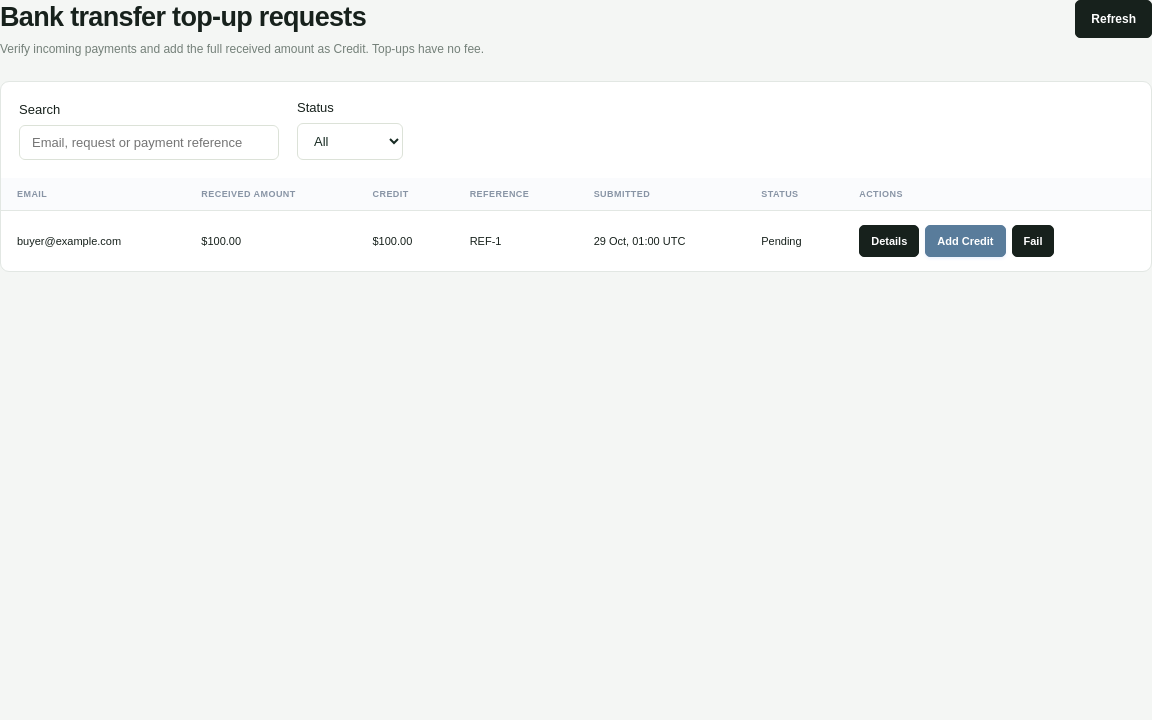
Test case: Console payment review › requires a Fail reason and sends it without adding Credit
The image size is (1152, 720).
Click the button "Fail": (1033, 241) [1012, 225, 1054, 257]
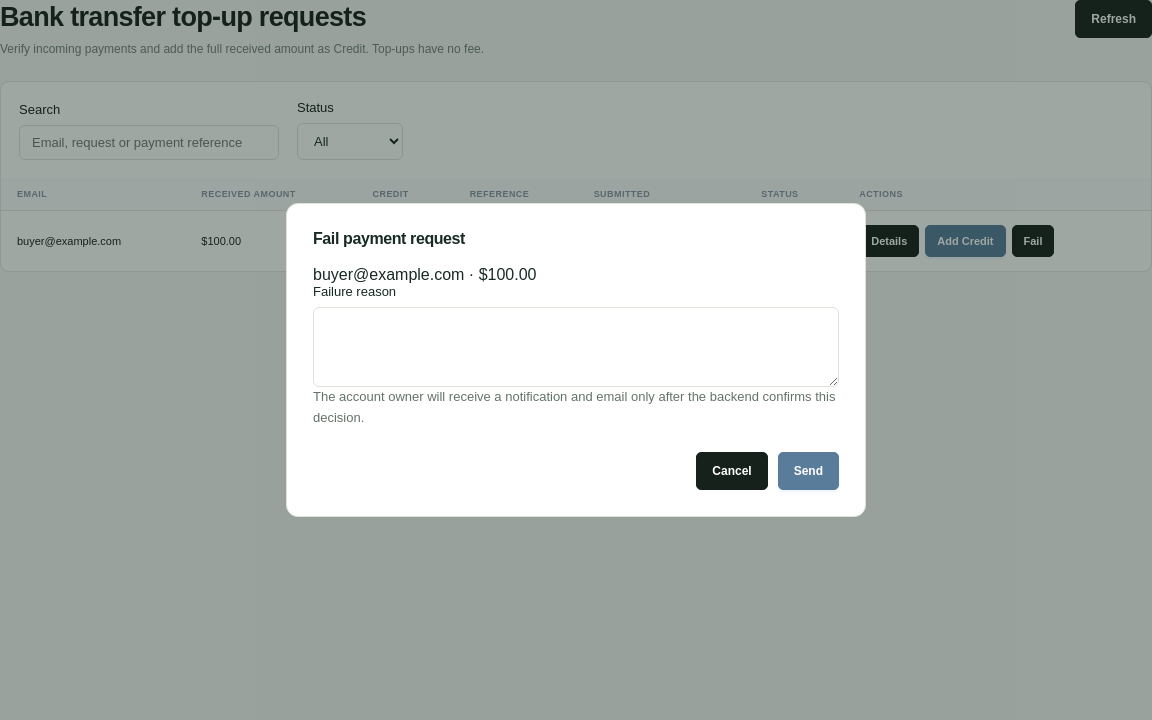
Click the button "Send": (808, 471) [778, 452, 839, 490]
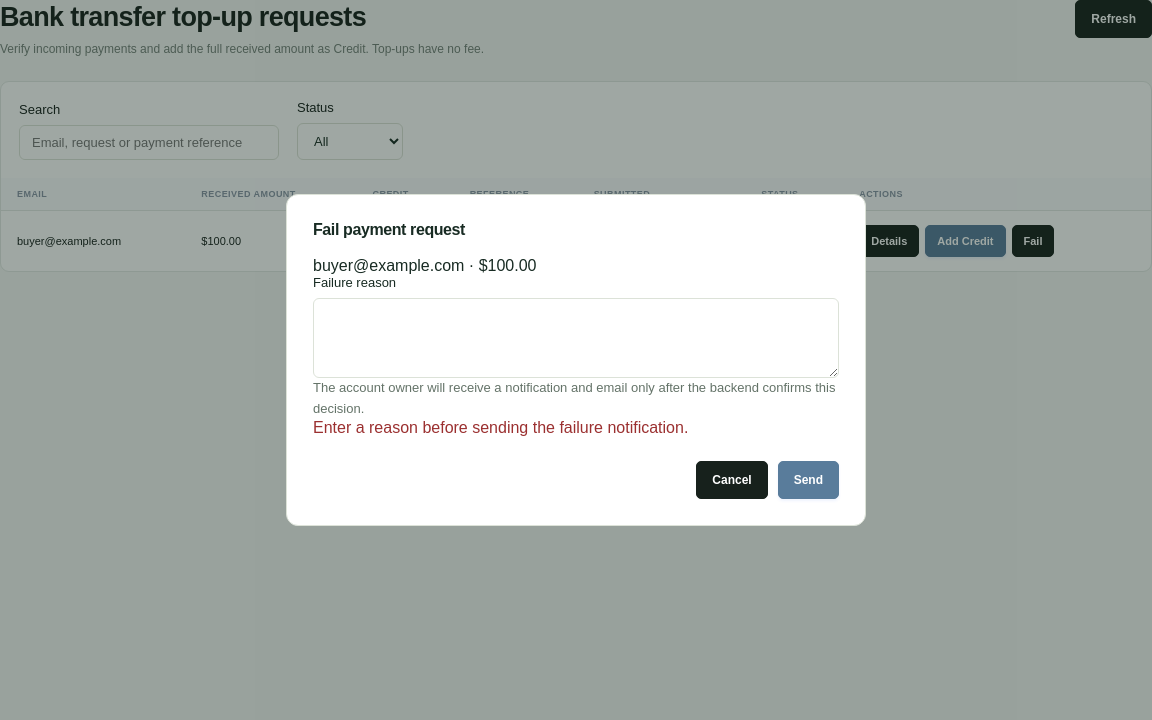
Now the message shows "Enter a reason", box [313, 419, 688, 436]
In the text box labelled "Failure reason": (576, 338) [313, 298, 839, 378], type "The bank reference does not match."
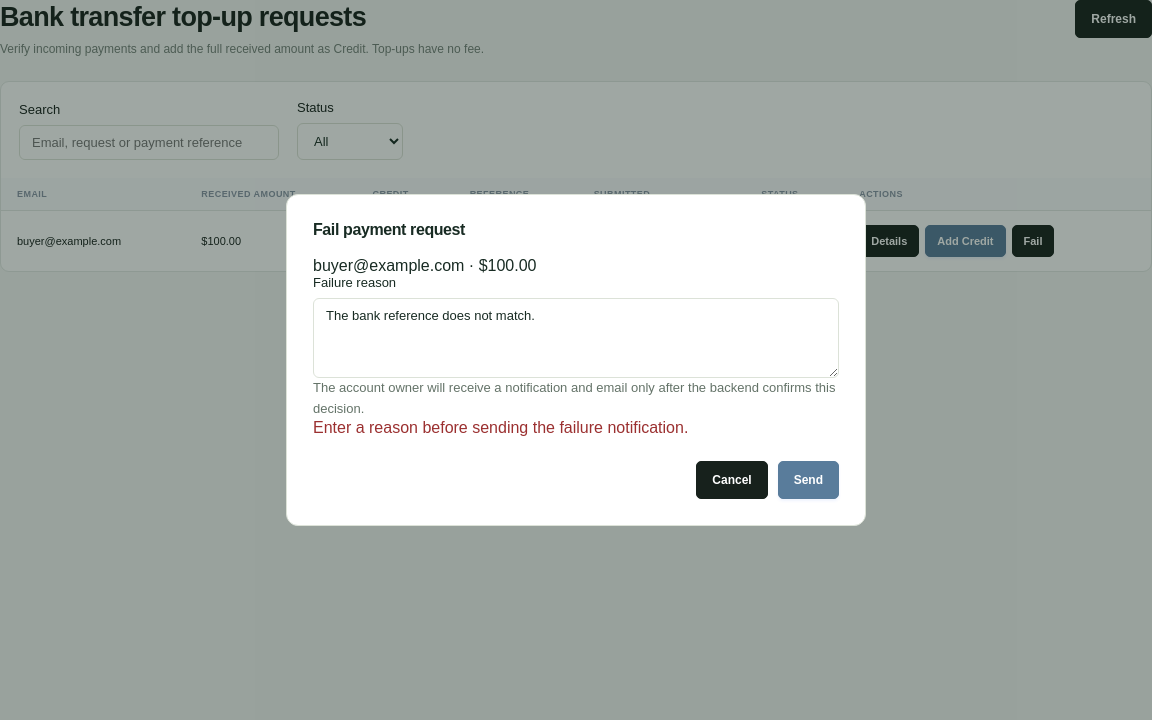
Click the button "Send": (808, 480) [778, 461, 839, 499]
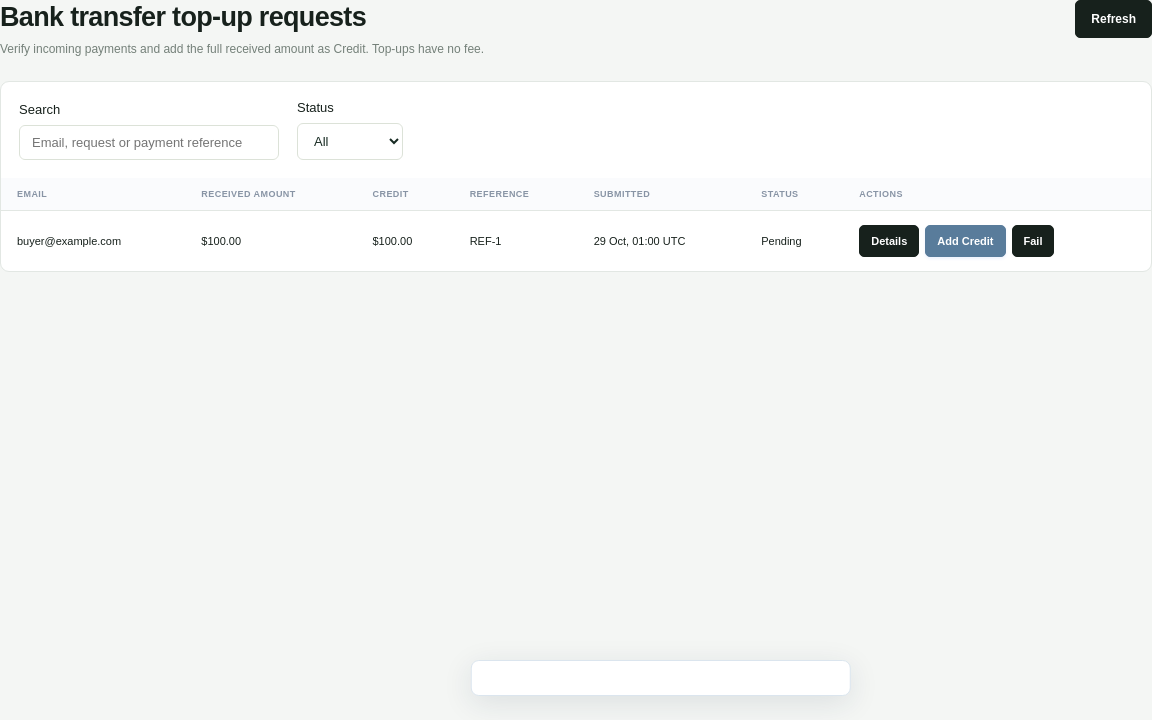
Now the text "Decision confirmed. Account notification and email have been queued." is shown, box [471, 660, 851, 696]
